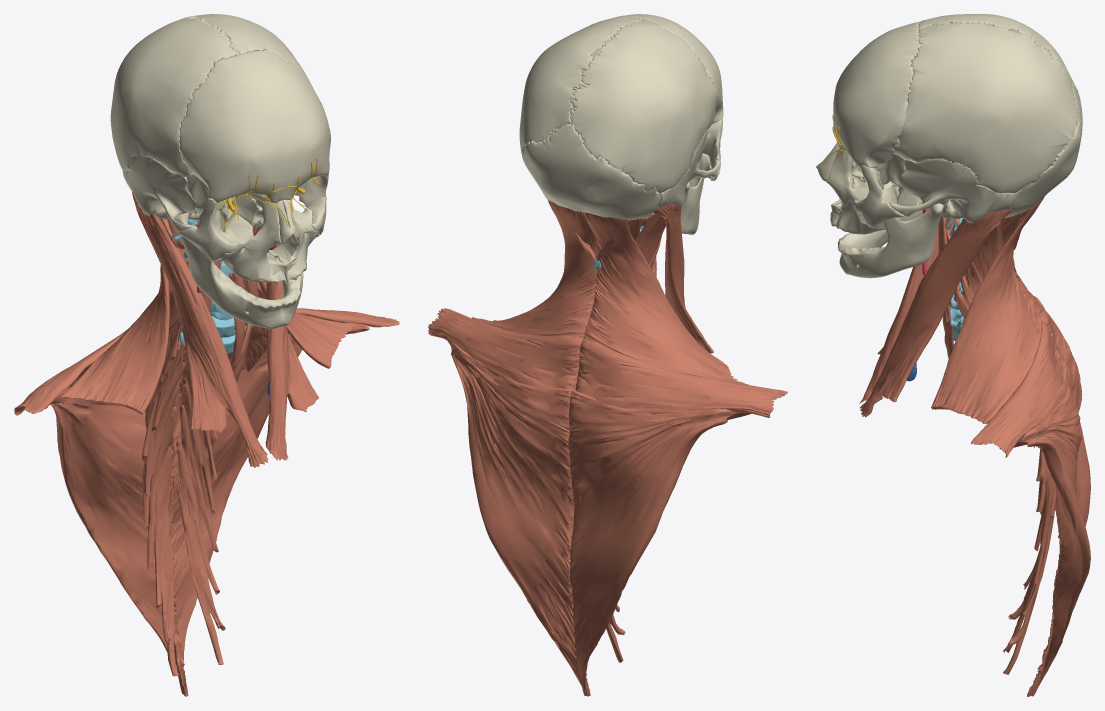
File: overview.glb
3 views of the same model, side by side, from view 1: azimuth 30°, elevation 25°; view 2: azimuth 150°, elevation 25°; view 3: azimuth 270°, elevation 25° (orthographic). The views are drawn at different scales.
Parts seen in each view (by area): view 1: grp1 (×12); view 2: grp1 (×10); view 3: grp1 (×13).
Part boxes in pixels (left/top/right/bottom): grp1 (×12): left=14, top=14, right=399, bottom=696; grp1 (×10): left=428, top=14, right=787, bottom=696; grp1 (×13): left=816, top=14, right=1090, bottom=696.
Bounding box in the file's own units: 0.3265 × 0.5823 × 0.2154.
